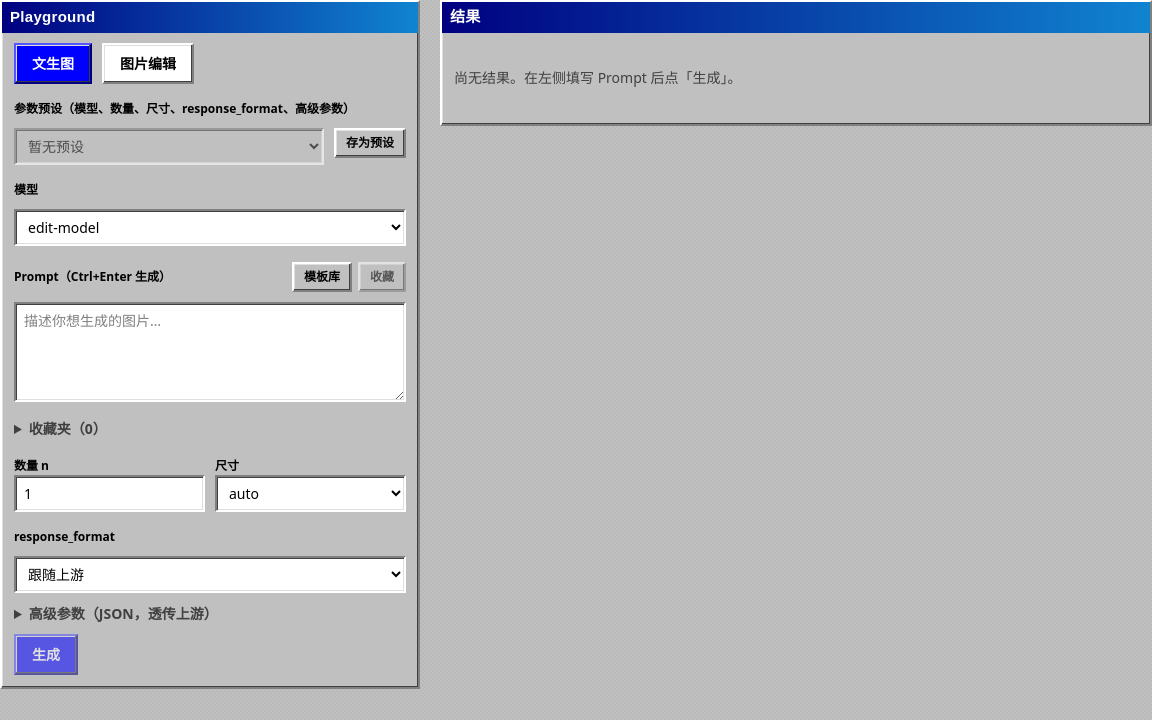
Test: Playground template library › switches to edit mode when applying an image2image template
The width and height of the screenshot is (1152, 720).
Click the button "模板库": (322,276) [292,262,352,292]
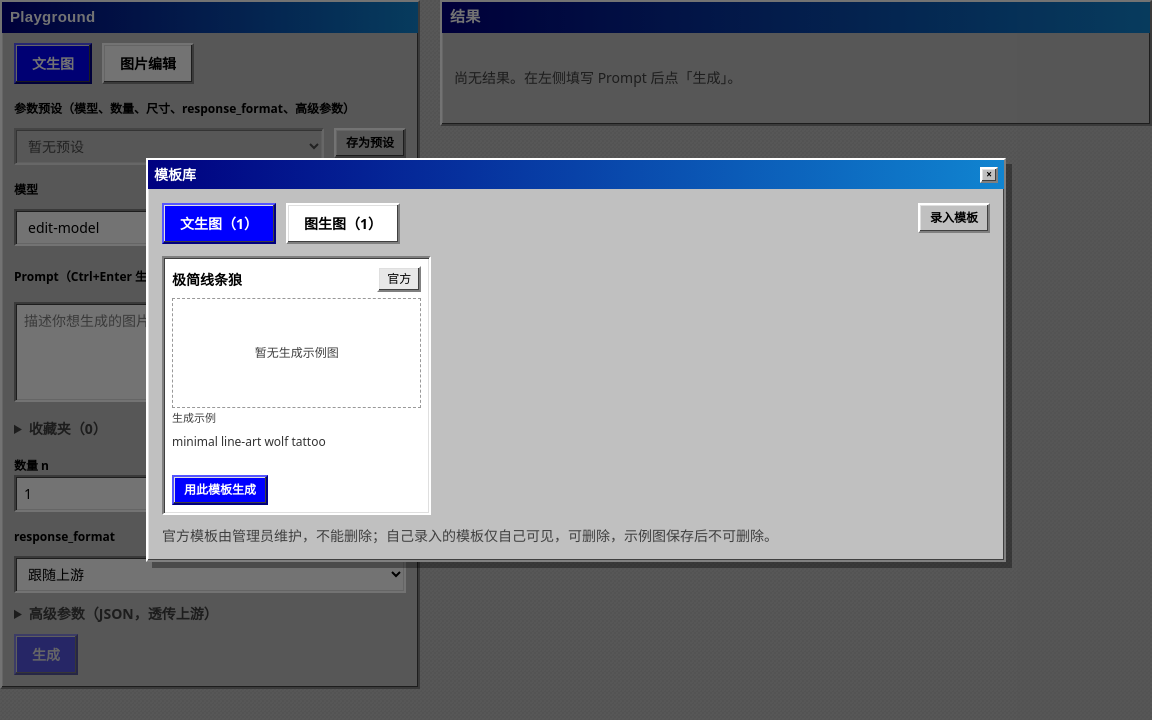
Click the tab "图生图（1）": (343,224) [286,203,400,244]
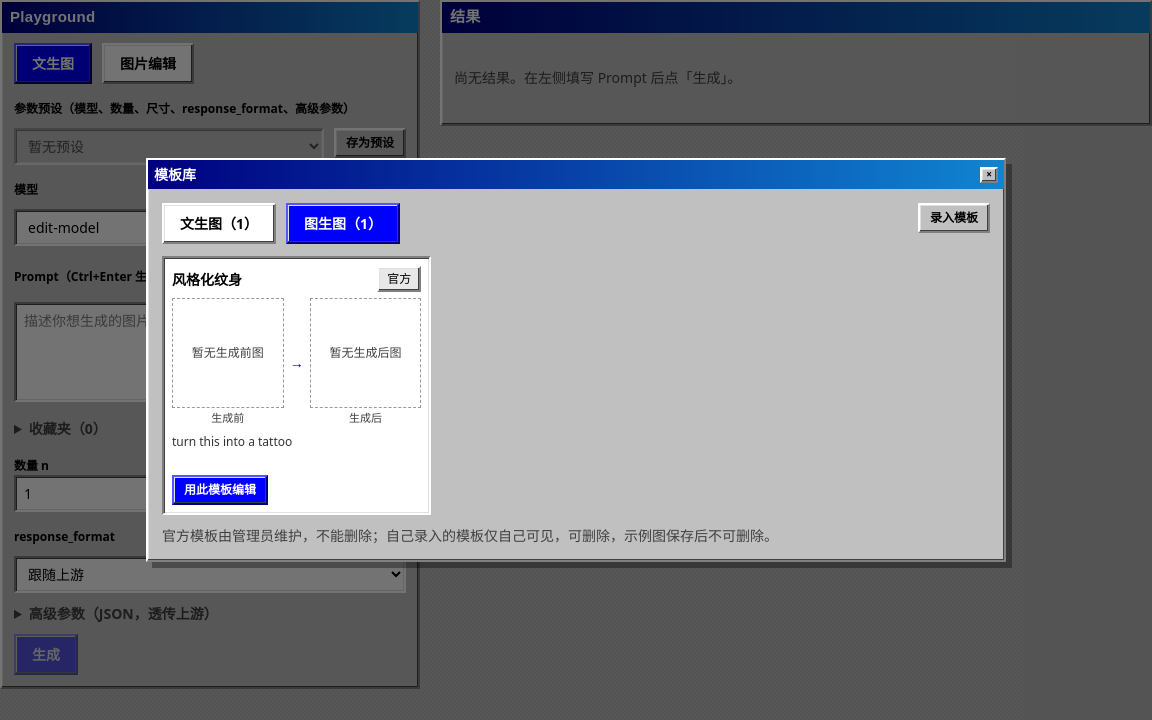
Click the button "用此模板编辑": (220,490) [172,475,268,505]
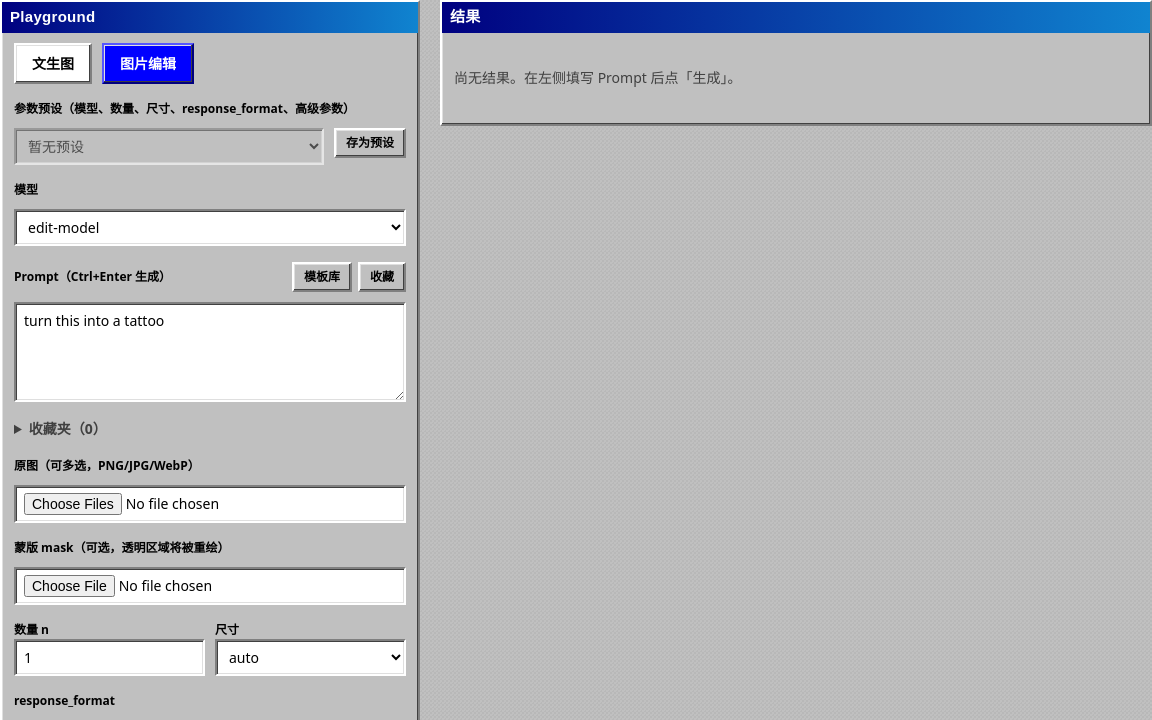
Expected: the text box labelled "Prompt（Ctrl+Enter 生成）" holds "turn this into a tattoo", [14,302,406,402]
